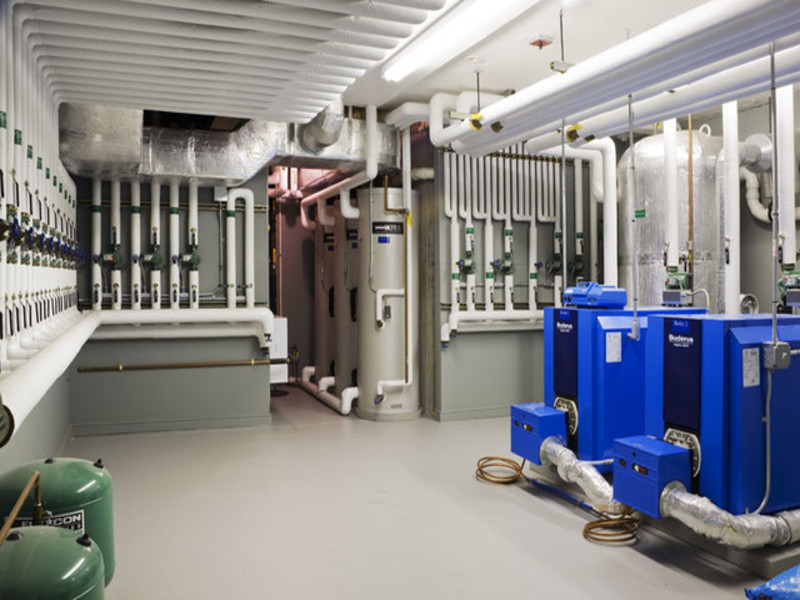valve: (8, 165, 20, 210), (35, 183, 46, 228), (21, 179, 30, 218)
